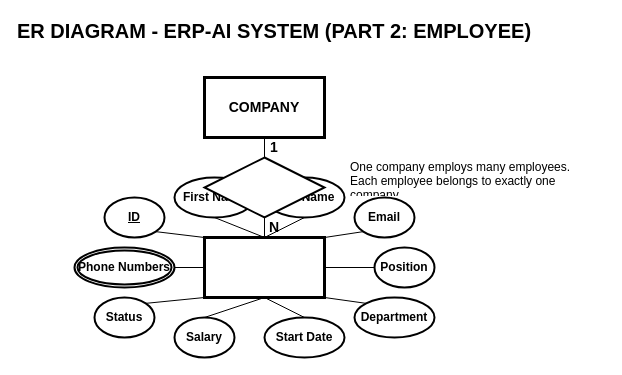
Some shapes in this 622 by 375 pixel diagram are drawn without their labels. Each missing label, with the centre of its shape:
"EMPLOYEE" goes at [264,267].
"EMPLOYS" goes at [264,187].
